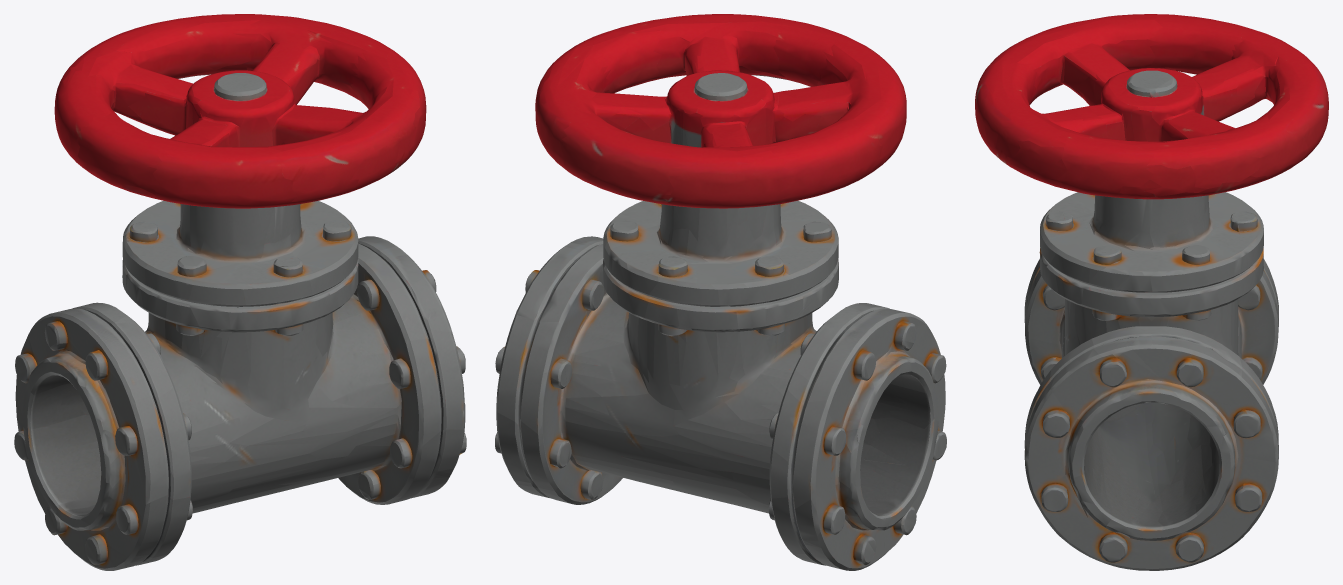
File: valvola_volantino.glb
The picture shows the model from 3 angles, left to right: view 1: azimuth 30°, elevation 25°; view 2: azimuth 150°, elevation 25°; view 3: azimuth 270°, elevation 25°; orthographic projection. The views are drawn at different scales.
Parts seen in each view (by area): view 1: Mesh_0; view 2: Mesh_0; view 3: Mesh_0.
Boxes of the visible parts, x1,y1,x2,y2 form: Mesh_0: (14, 14, 466, 570); Mesh_0: (495, 14, 946, 570); Mesh_0: (975, 14, 1328, 570).
Bounding box in the file's own units: 1.59 × 1.9 × 1.45.
1 material, 1 textured.
